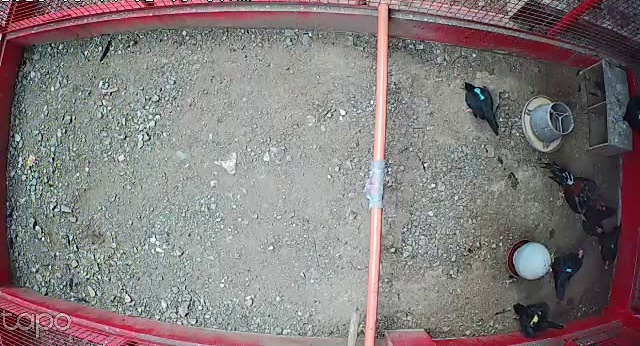Chicken: (510, 296, 566, 341), (549, 245, 586, 302), (462, 81, 501, 135), (595, 220, 626, 270), (577, 199, 617, 236)
Rooster: (538, 159, 608, 218)
Saddle_Color_Blue: (566, 268, 573, 272)
Saddle_Color_Yellow: (530, 311, 541, 328)
